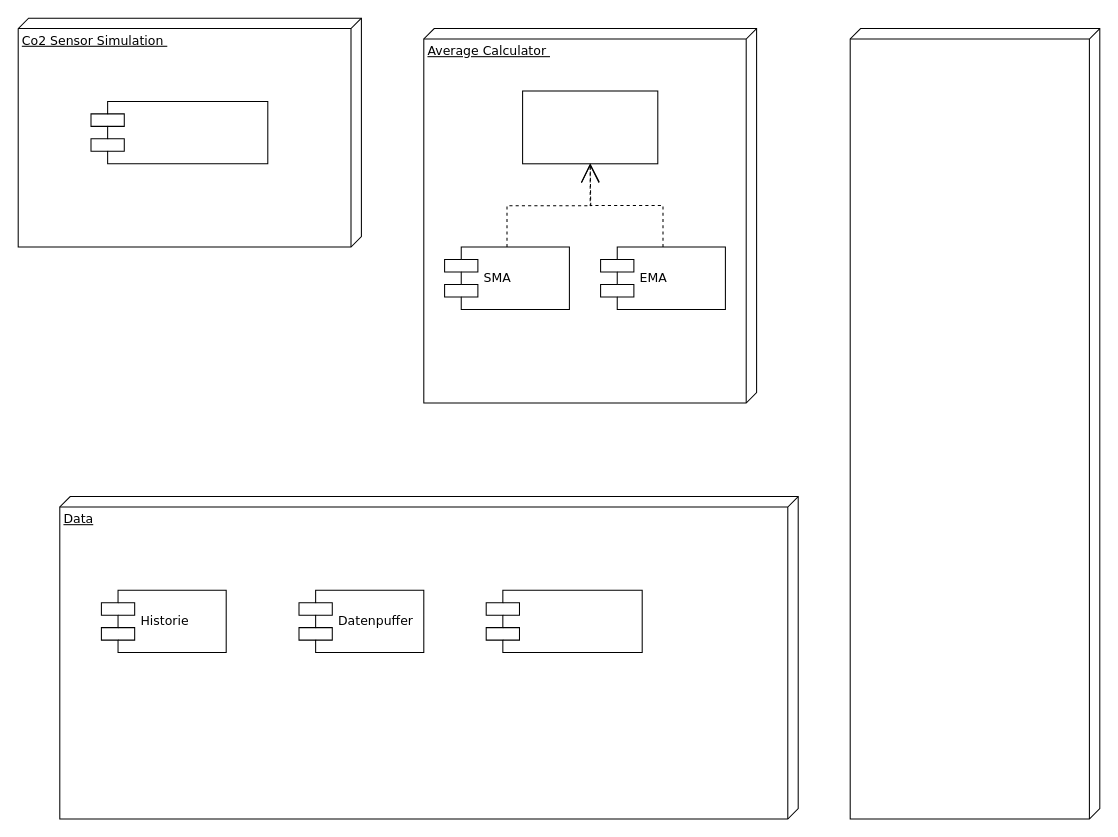
Image size: 1118x837. Some labels were removed from this diagram. Each missing label, with the centre of its shape:
Sensor Simulator: the point at 179,132
TrendCalculator: the point at 563,621
User Interface: the point at 974,423
«interface» Average Calculator: the point at 590,127
